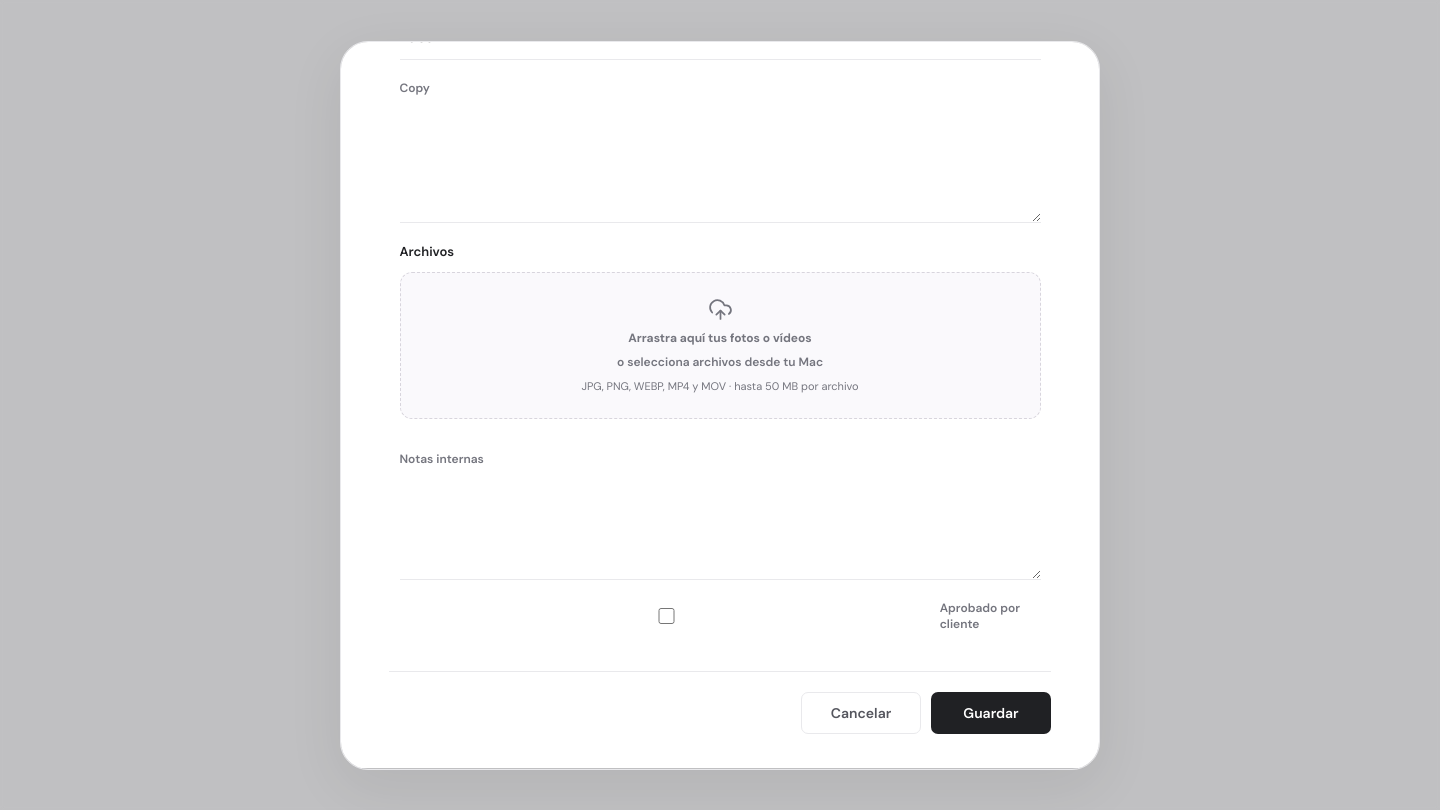
mantiene datos del formulario cuando otro usuario ha modificado el registro
(page scrolled)
Click the button "Guardar" at (991, 713), box [931,692,1051,734]
(page scrolled)
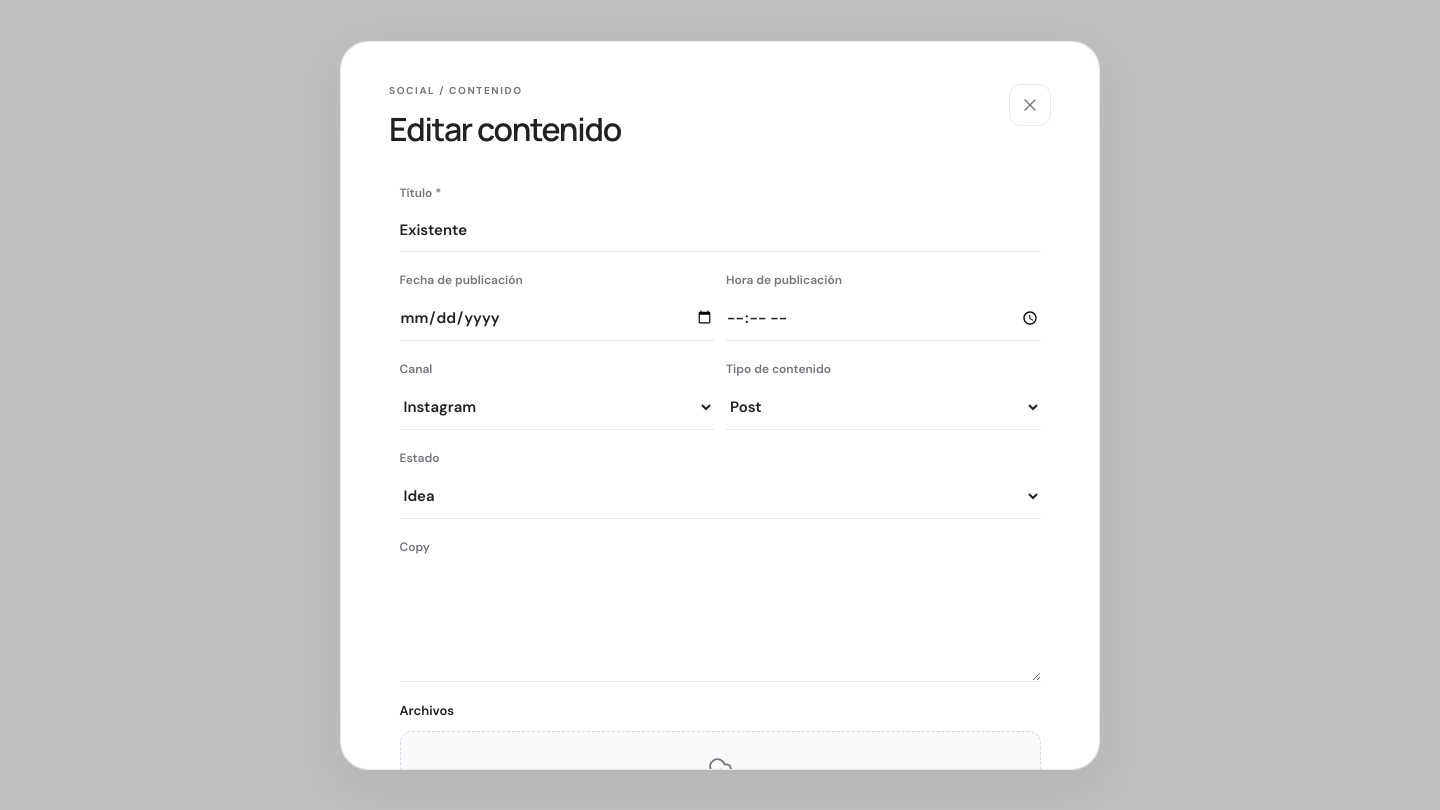
Expected: the field labelled "Título *" holds "Existente", [400,209,1040,252]
